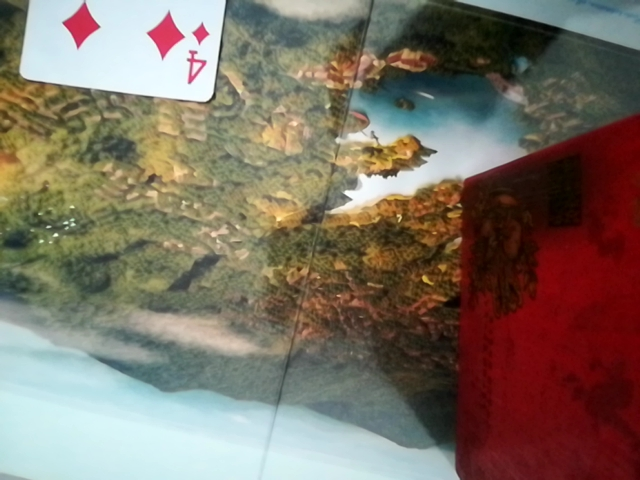fk 4: (14, 3, 249, 110)
